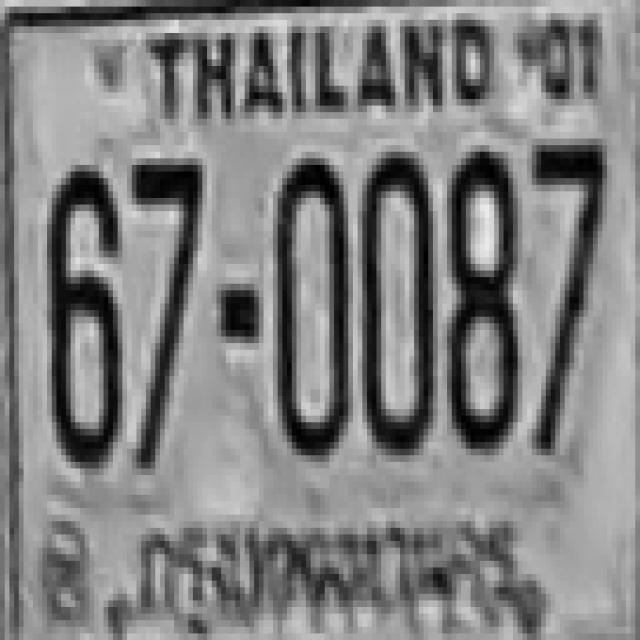0: (358, 148, 433, 452), (273, 155, 348, 452)
6: (42, 158, 118, 462)
7: (527, 136, 602, 446), (127, 155, 198, 452), (527, 135, 602, 360), (127, 152, 198, 376), (527, 135, 602, 333), (127, 152, 198, 356)
8: (442, 145, 513, 442)
Bangkok: (128, 508, 532, 629)
